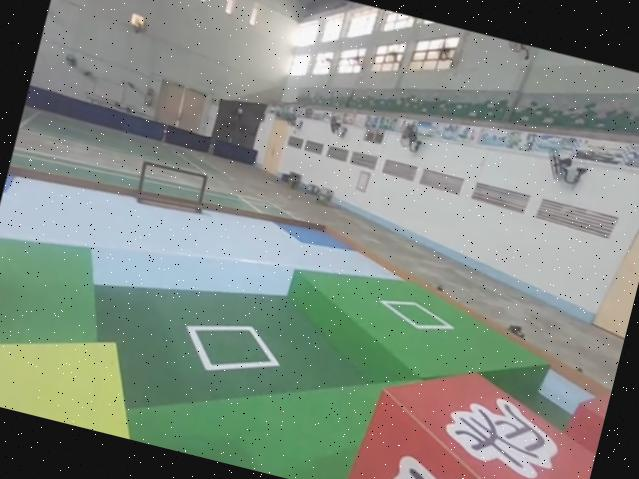R2 Fake: (340, 339, 609, 479)
